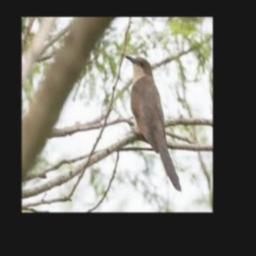Cuckoo: (125, 56, 181, 191)
